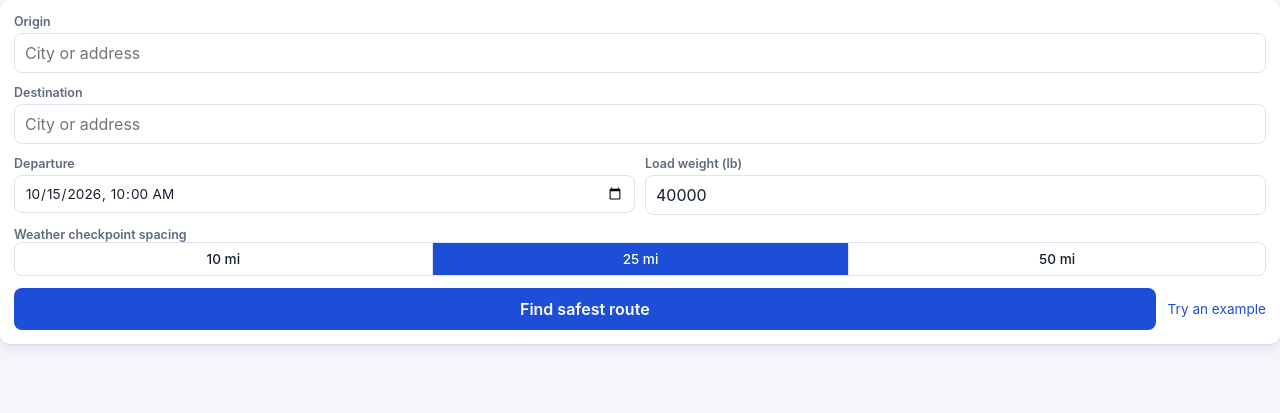
Test: TripForm › requires origin and destination
Step 1. Click the button "Find safest route" → (585, 309), box left=14, top=288, right=1156, bottom=330
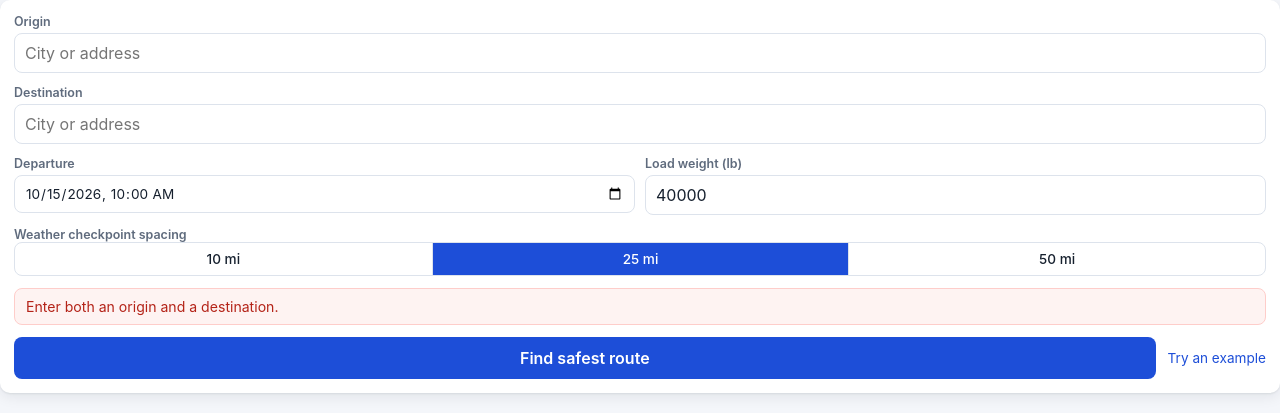
Result: the message shows "origin and a destination" at left=26, top=298, right=278, bottom=315
